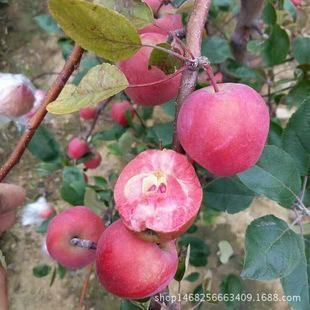apple: (175, 81, 270, 176), (114, 150, 204, 238), (94, 218, 179, 298), (115, 31, 187, 107), (44, 207, 104, 269), (130, 1, 182, 39), (110, 101, 133, 124)
